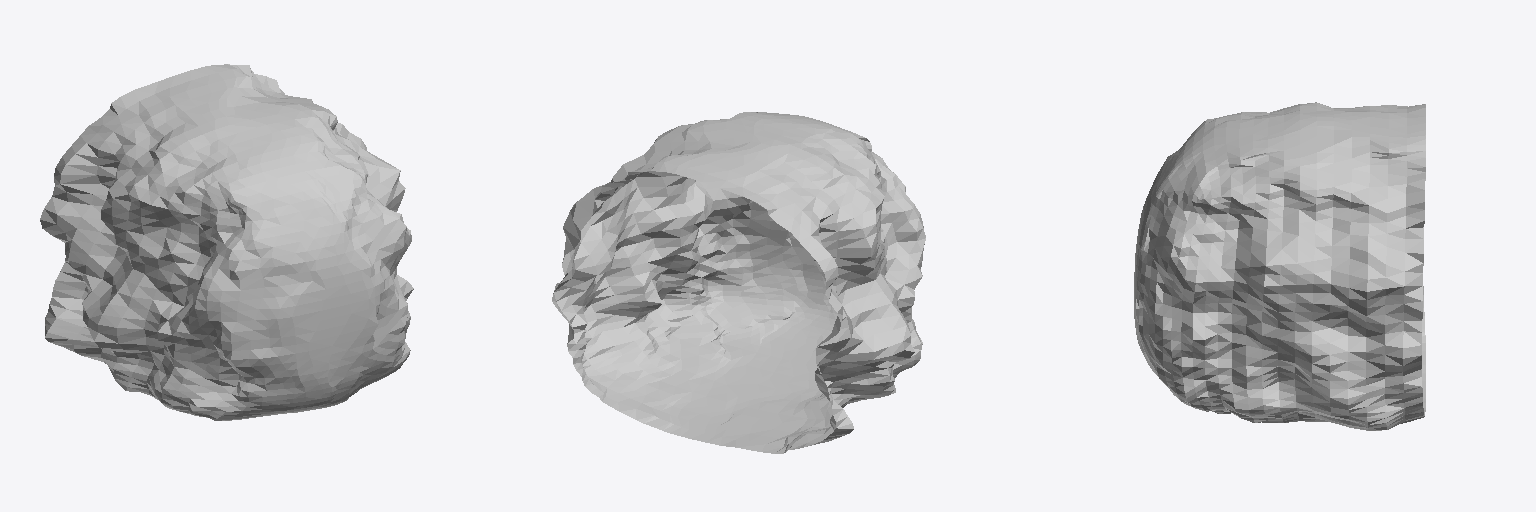
File: cave1.obj
3 views of the same model, side by side, from view 1: azimuth 30°, elevation 25°; view 2: azimuth 150°, elevation 25°; view 3: azimuth 270°, elevation 25° (orthographic).
Parts seen in each view (by area): view 1: Cube.001; view 2: Cube.001; view 3: Cube.001.
Boxes of the visible parts, <box> form: Cube.001: <box>40,64,413,420</box>; Cube.001: <box>552,112,925,453</box>; Cube.001: <box>1134,102,1425,430</box>.
Bounding box in the file's own units: 2.37 × 1.92 × 1.94.